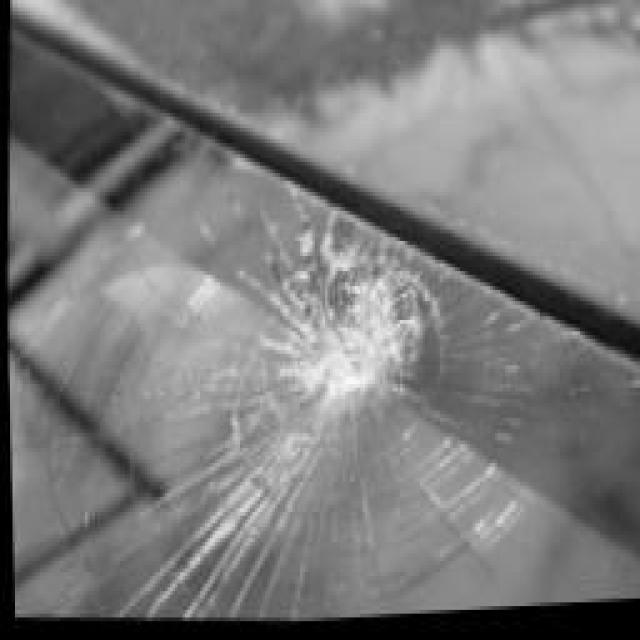Windshield: (20, 151, 576, 639)
